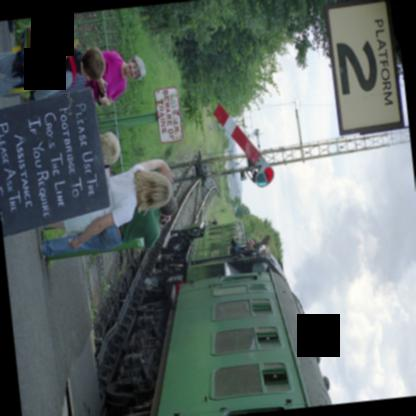backpack: (13, 16, 77, 84)
